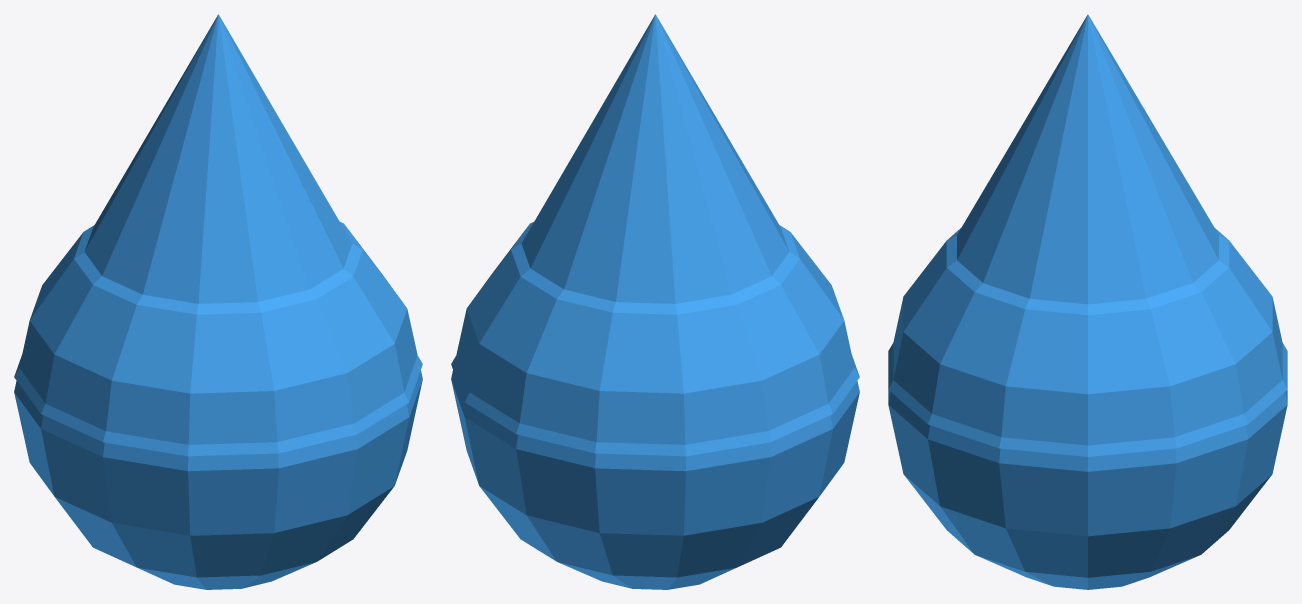
File: regndroppe.glb
The picture shows the model from 3 angles, left to right: view 1: azimuth 30°, elevation 25°; view 2: azimuth 150°, elevation 25°; view 3: azimuth 270°, elevation 25°; orthographic projection.
Parts seen in each view (by area): view 1: regndroppe; view 2: regndroppe; view 3: regndroppe.
Part boxes in pixels (x1=…): regndroppe: x1=14, y1=14, x2=422, y2=589; regndroppe: x1=451, y1=14, x2=859, y2=589; regndroppe: x1=888, y1=14, x2=1287, y2=589.
Bounding box in the file's own units: 0.5 × 0.75 × 0.4875.
